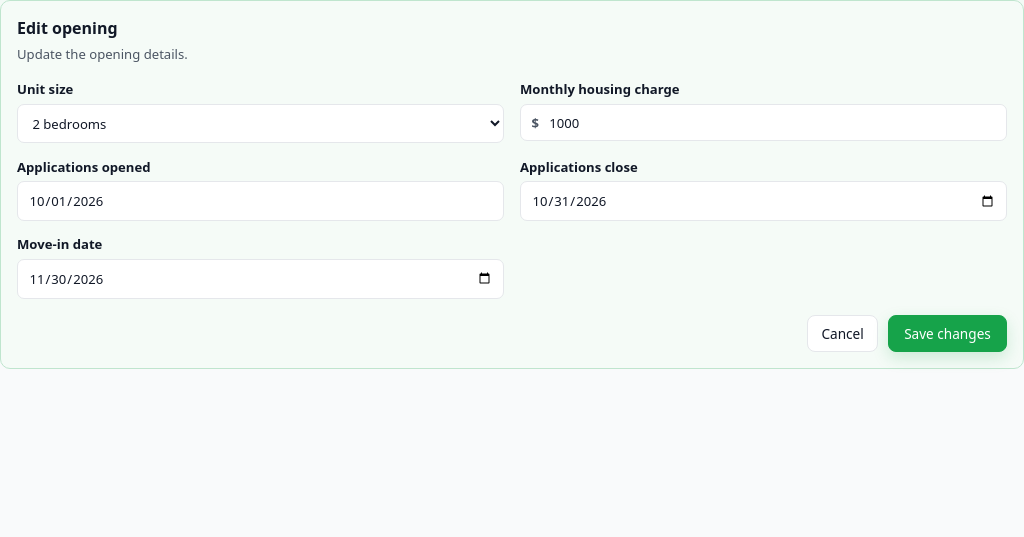
Test case: keeps stale edits until saved facts are explicitly reloaded
This screenshot has width=1024, height=537.
Replace the text in the field labelled "Monthly housing charge $" with "1500": (772,123) [539,105,1006,140]
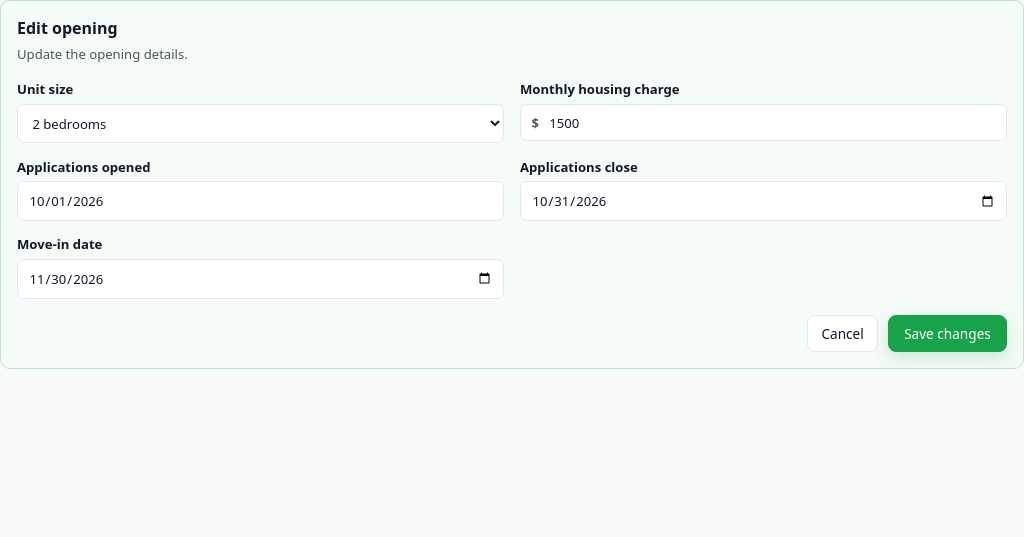
Click the button "Save changes": (947,333) [888,314,1007,352]
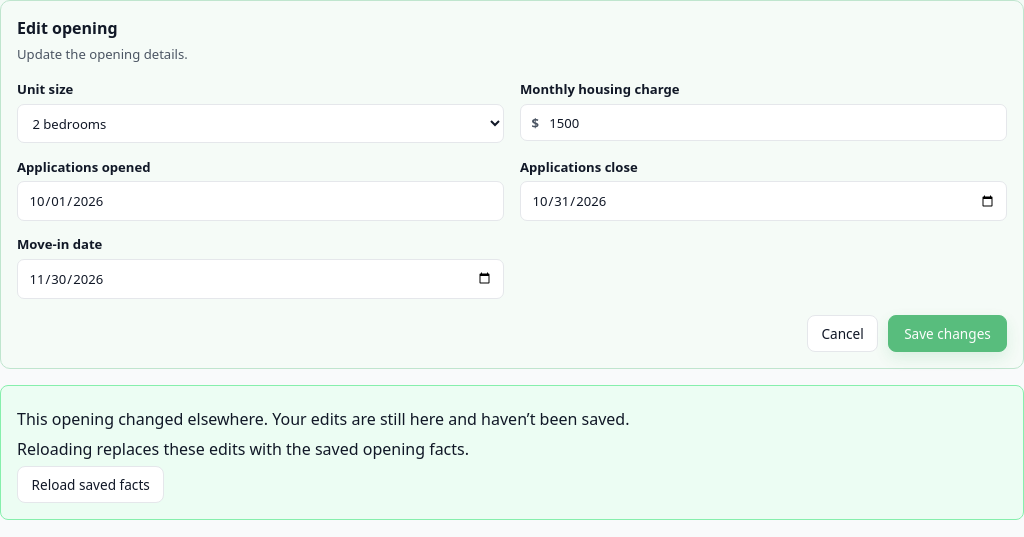
Now the button "Save changes" is disabled, box [888,314,1007,352]
Click the button "Reload saved facts": (91,485) [17,466,164,503]
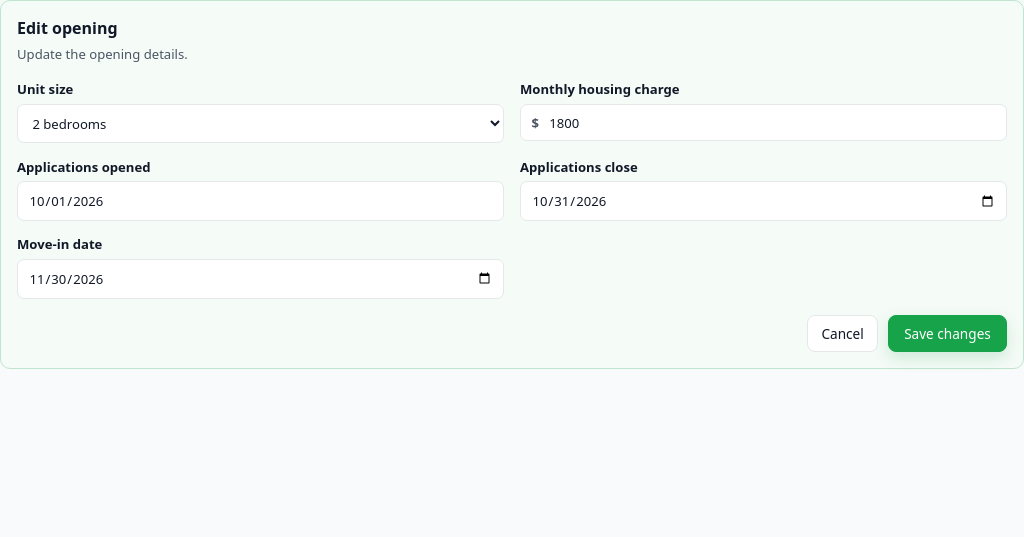
Now the field labelled "Monthly housing charge $" holds "1800", box [539,105,1006,140]
Now the button "Save changes" is enabled, box [888,314,1007,352]
